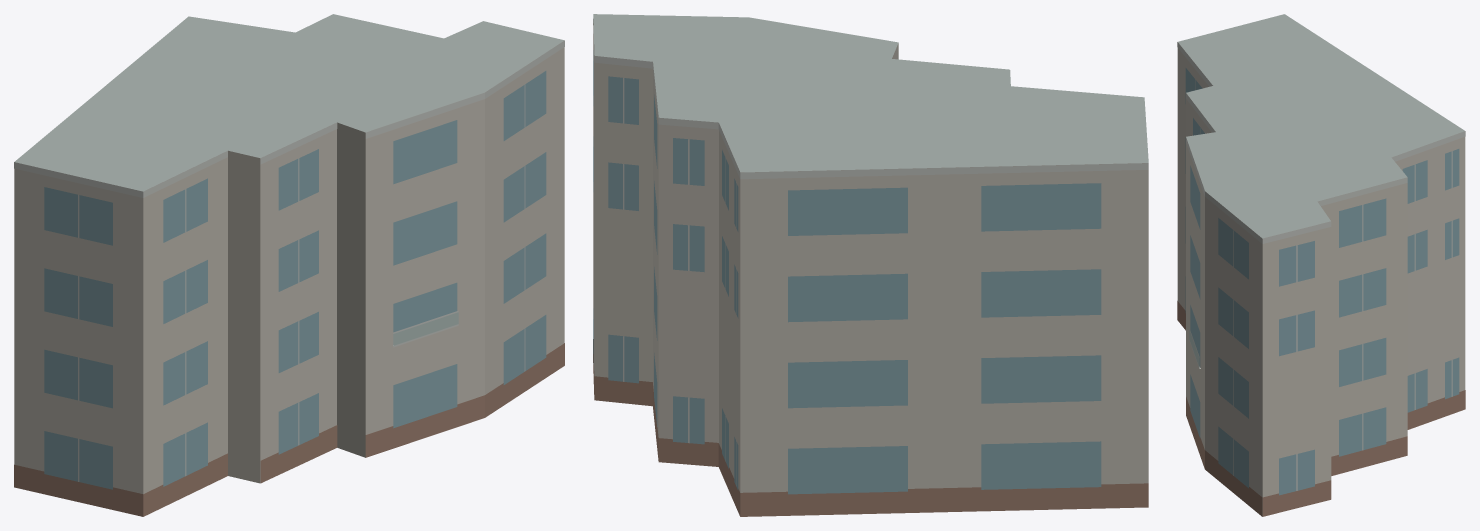
File: residential-72436724-6e68-4515-b6e9-15e90d4a6383.glb
3 views of the same model, side by side, from view 1: azimuth 30°, elevation 25°; view 2: azimuth 150°, elevation 25°; view 3: azimuth 270°, elevation 25° (orthographic). The views are drawn at different scales.
Parts seen in each view (by area): view 1: residential-72436724-6e68-4515-b6e9-15e90d4a6383.tmp; view 2: residential-72436724-6e68-4515-b6e9-15e90d4a6383.tmp; view 3: residential-72436724-6e68-4515-b6e9-15e90d4a6383.tmp.
Part boxes in pixels (x1,y1,x2,y2): residential-72436724-6e68-4515-b6e9-15e90d4a6383.tmp: [14, 14, 564, 516]; residential-72436724-6e68-4515-b6e9-15e90d4a6383.tmp: [593, 14, 1148, 516]; residential-72436724-6e68-4515-b6e9-15e90d4a6383.tmp: [1177, 14, 1465, 516].
Bounding box in the file's own units: 21.11 × 12.2 × 11.44.
